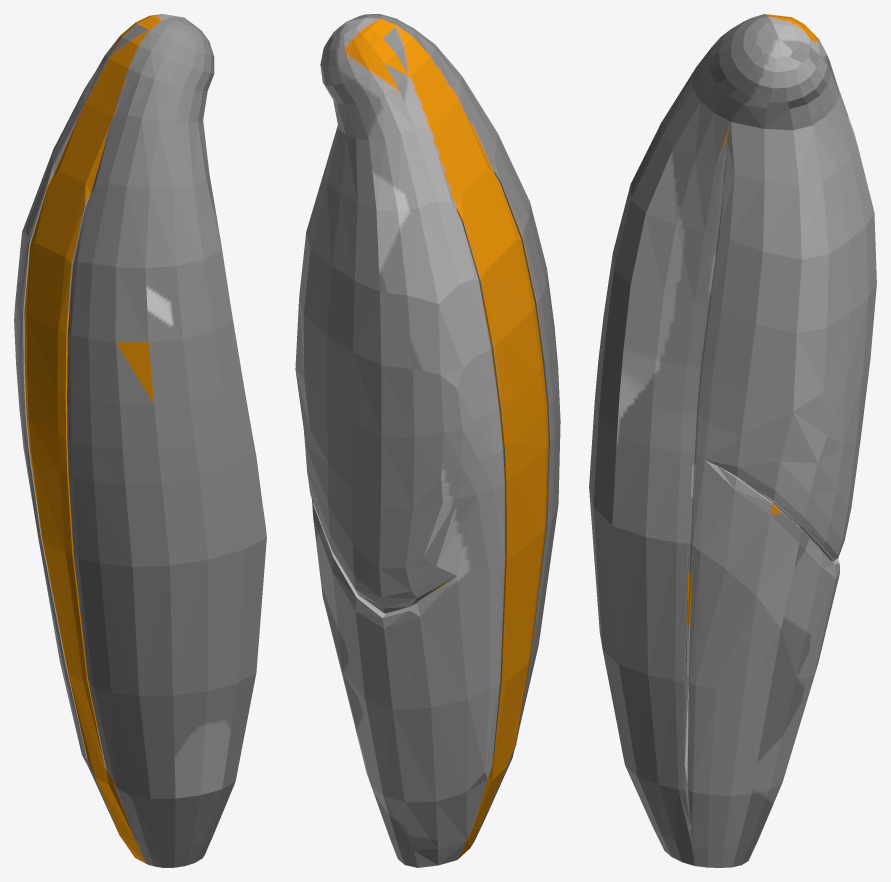
The model's file is RightUpperLeg.obj.
3 renders of one model, left to right at view 1: azimuth 30°, elevation 25°; view 2: azimuth 150°, elevation 25°; view 3: azimuth 270°, elevation 25°, orthographic. The views are drawn at different scales.
Visible parts, largest first — view 1: RightUpperLeg_Mesh.480; view 2: RightUpperLeg_Mesh.480; view 3: RightUpperLeg_Mesh.480.
Boxes of the visible parts, bbox=[...] form: RightUpperLeg_Mesh.480: bbox=[14, 14, 266, 867]; RightUpperLeg_Mesh.480: bbox=[295, 14, 560, 867]; RightUpperLeg_Mesh.480: bbox=[589, 14, 876, 867].
Size of the model in its own units: 0.1181 by 0.4598 by 0.1406.
1 material, 1 textured.
